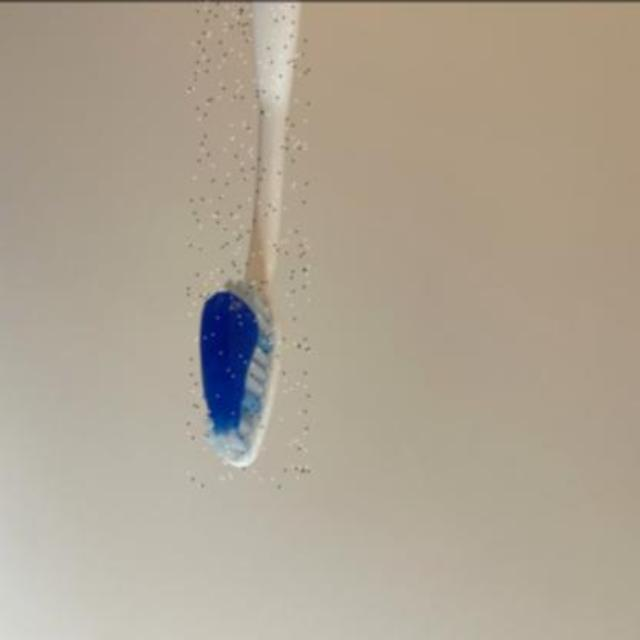toothbrush: (188, 0, 308, 486)
